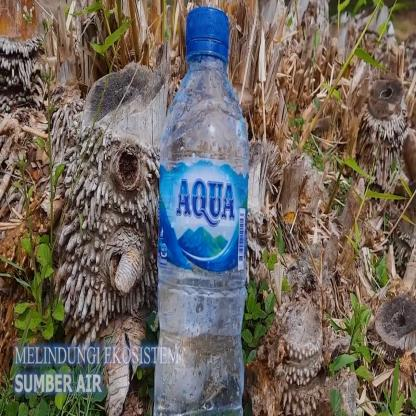plastic_bottles: (153, 4, 251, 416)
